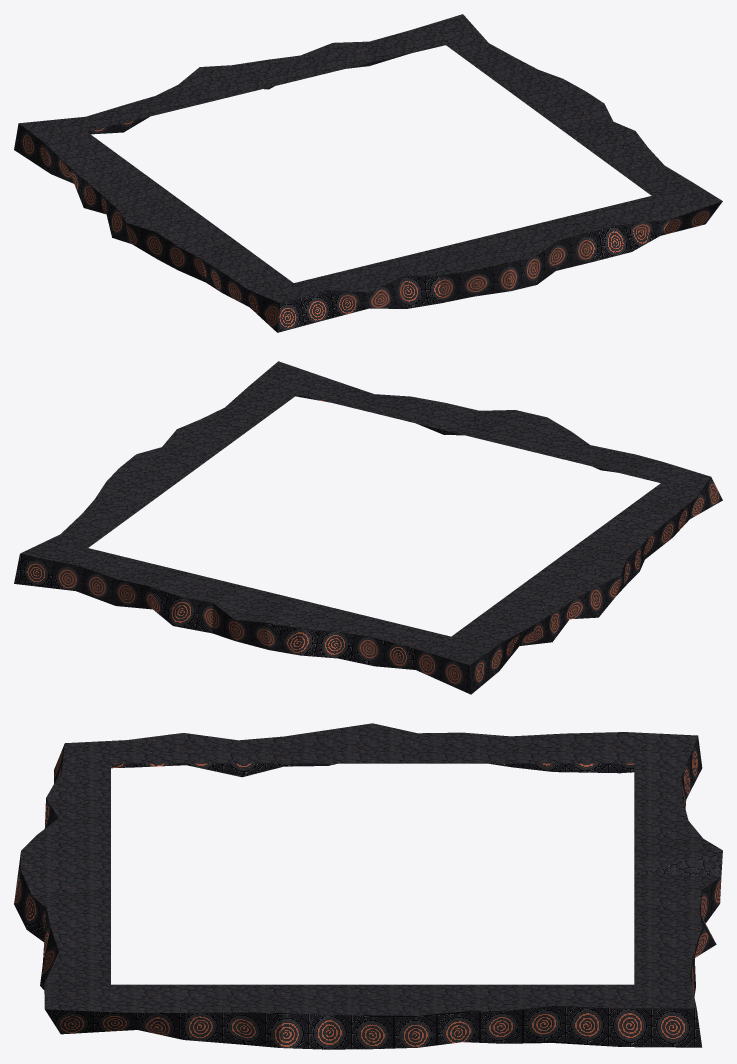
Rendered from entorno.fbx.
3 renders of one model, top to bottom at view 1: azimuth 30°, elevation 25°; view 2: azimuth 150°, elevation 25°; view 3: azimuth 270°, elevation 25°, orthographic. The views are drawn at different scales.
Parts seen in each view (by area): view 1: vulcao_entorno; view 2: vulcao_entorno; view 3: vulcao_entorno.
Boxes of the visible parts, box(x1,y1,x2,y2) form: vulcao_entorno: box(14, 14, 722, 332); vulcao_entorno: box(14, 361, 722, 694); vulcao_entorno: box(14, 723, 722, 1049).
Size of the model in its own units: 1631 by 106 by 1652.
2 materials, 2 textured.
